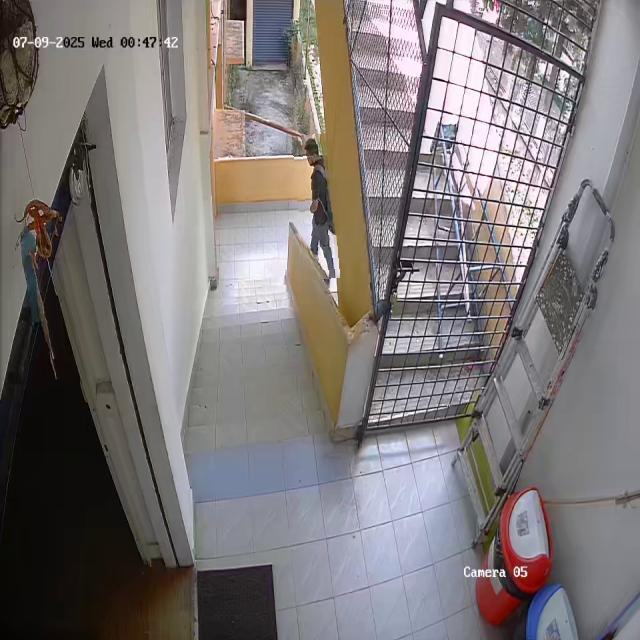person: (296, 133, 338, 280)
